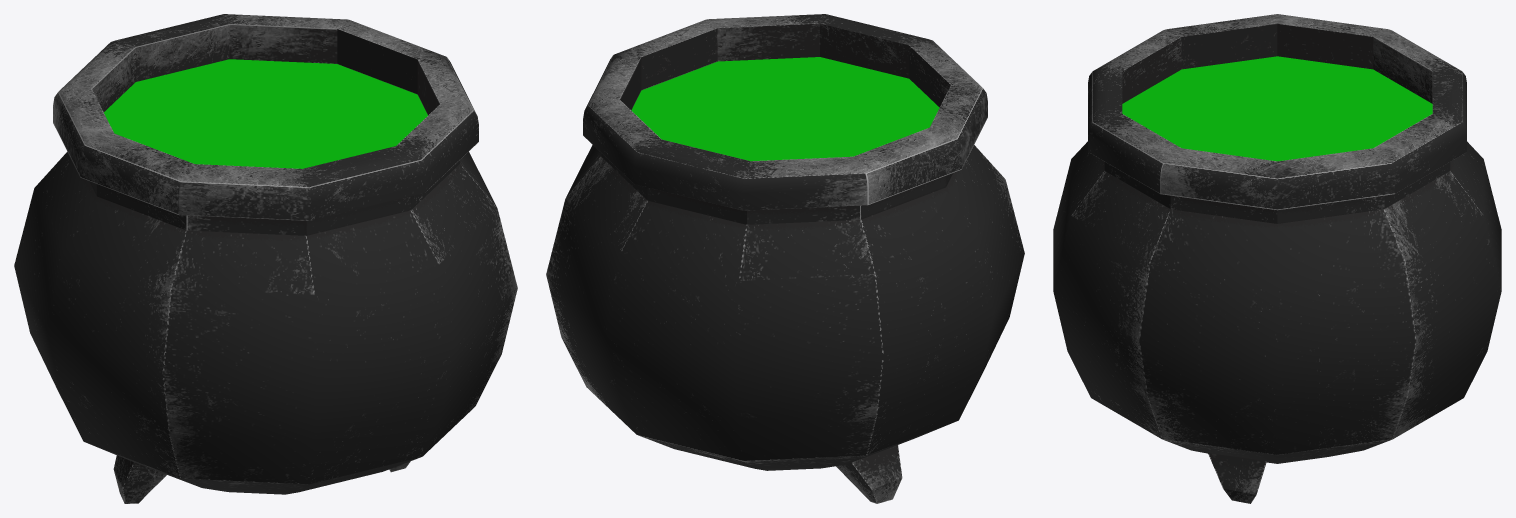
File: Cauldron2.fbx
3 renders of one model, left to right at view 1: azimuth 30°, elevation 25°; view 2: azimuth 150°, elevation 25°; view 3: azimuth 270°, elevation 25°, orthographic. The views are drawn at different scales.
Visible parts, largest first — view 1: Cylinder007; view 2: Cylinder007; view 3: Cylinder007.
Part boxes in pixels (x1,y1,x2,y2): Cylinder007: (14, 14, 517, 503); Cylinder007: (546, 14, 1024, 503); Cylinder007: (1053, 14, 1501, 503).
Size of the model in its own units: 0.7463 by 0.7097 by 0.6337.
